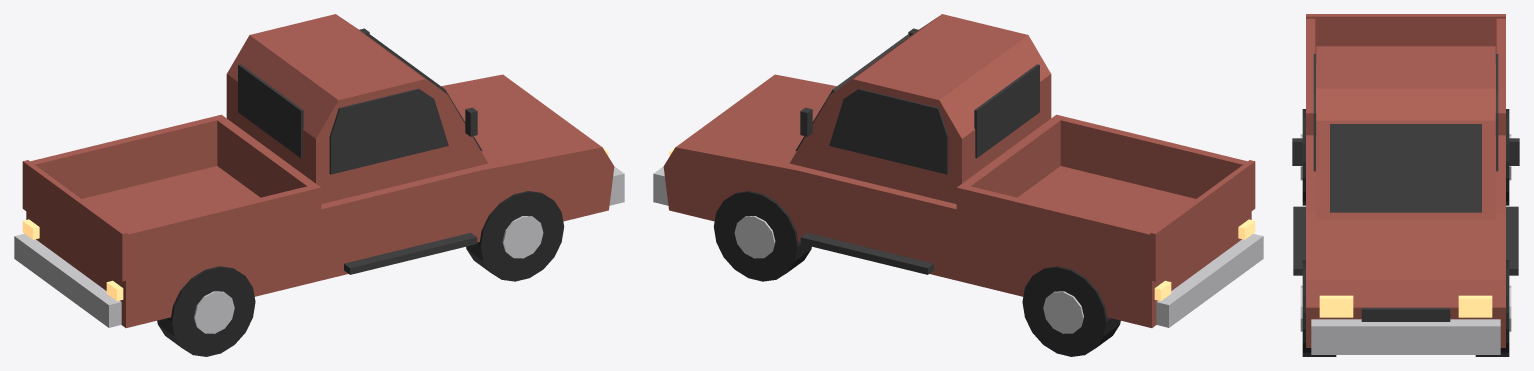
The model's file is truck.glb.
3 renders of one model, left to right at view 1: azimuth 30°, elevation 25°; view 2: azimuth 150°, elevation 25°; view 3: azimuth 270°, elevation 25°, orthographic.
Parts seen in each view (by area): view 1: PickupTruckB; view 2: PickupTruckB; view 3: PickupTruckB.
Boxes of the visible parts, bbox=[...] form: PickupTruckB: bbox=[14, 14, 624, 356]; PickupTruckB: bbox=[653, 14, 1263, 356]; PickupTruckB: bbox=[1292, 14, 1519, 356].
Size of the model in its own units: 5.68 by 2.29 by 2.16.
